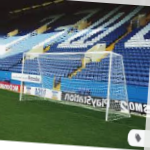goals: (20, 49, 132, 122)
